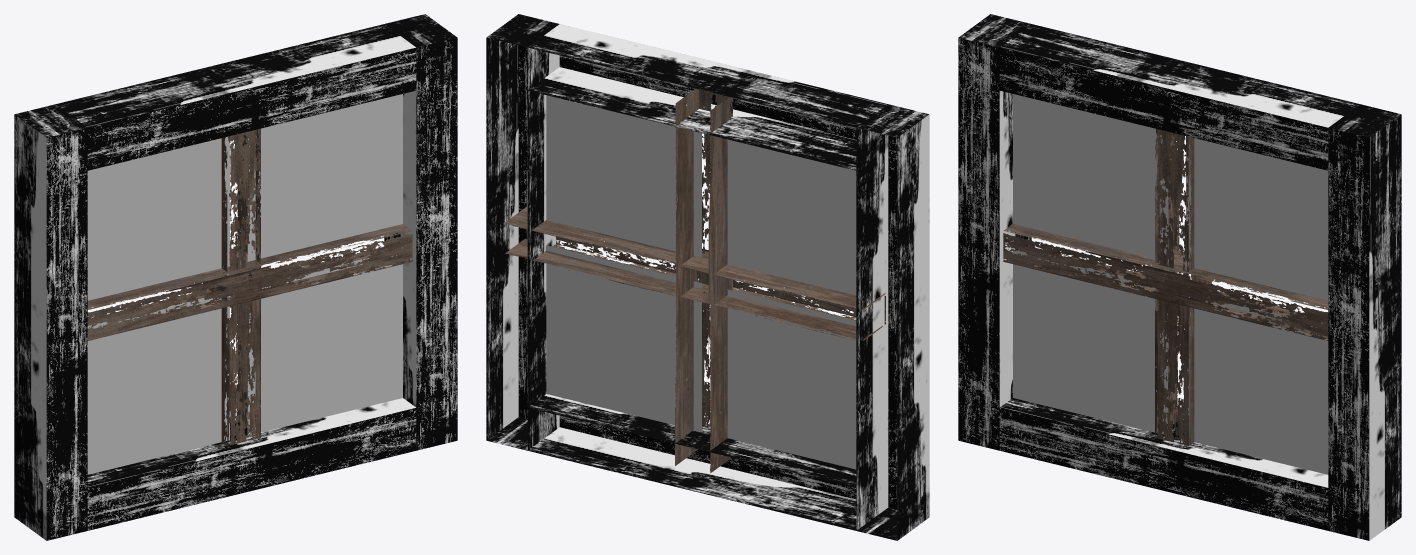
Rendered from SM_window_01.fbx.
The picture shows the model from 3 angles, left to right: view 1: azimuth 30°, elevation 25°; view 2: azimuth 150°, elevation 25°; view 3: azimuth 330°, elevation 25°; orthographic projection.
Parts seen in each view (by area): view 1: SM_window_01_LOD0; view 2: SM_window_01_LOD0; view 3: SM_window_01_LOD0.
Boxes of the visible parts, left/top/right/bottom form: SM_window_01_LOD0: left=14, top=14, right=457, bottom=540; SM_window_01_LOD0: left=486, top=14, right=929, bottom=540; SM_window_01_LOD0: left=958, top=14, right=1401, bottom=540.
Size of the model in its own units: 100 by 13.57 by 93.75.
3 materials, 2 textured.
